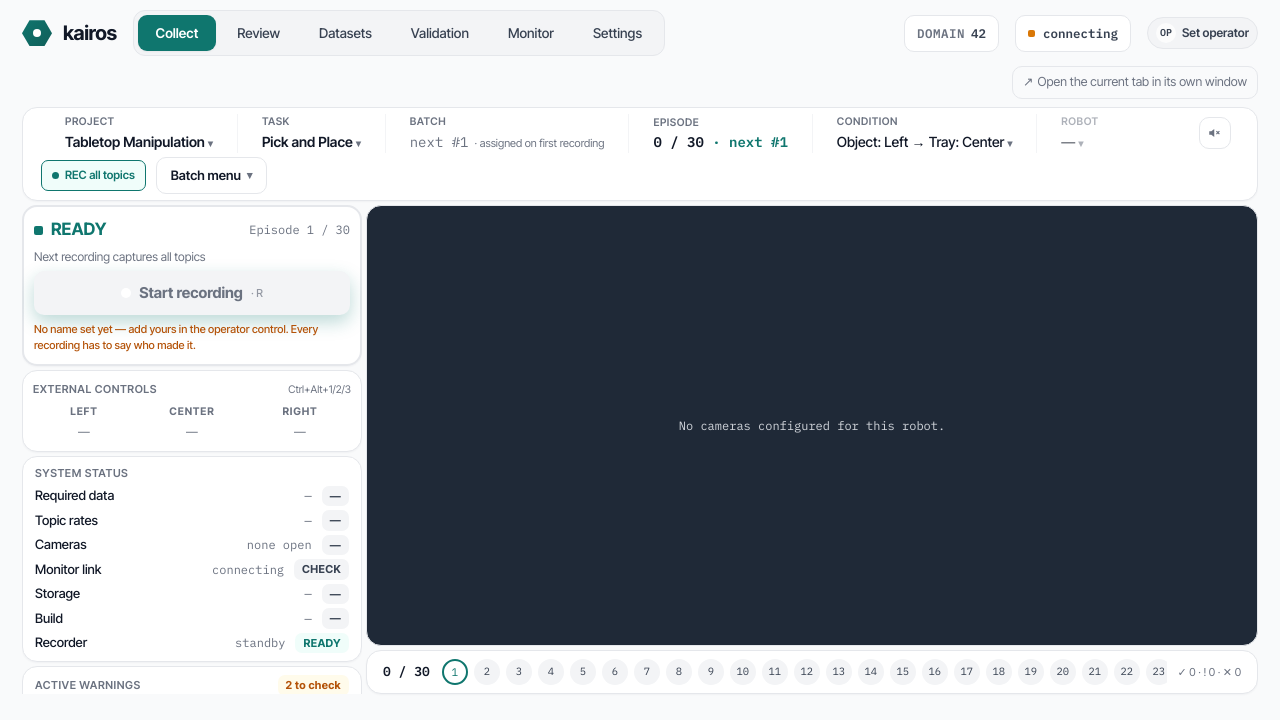
Test: the operator chip sets uiStore.recordOperator (sent with /record/start) and persists it
Click the button with test id "operator-chip" at [1202, 33], box [1147,17,1258,49]
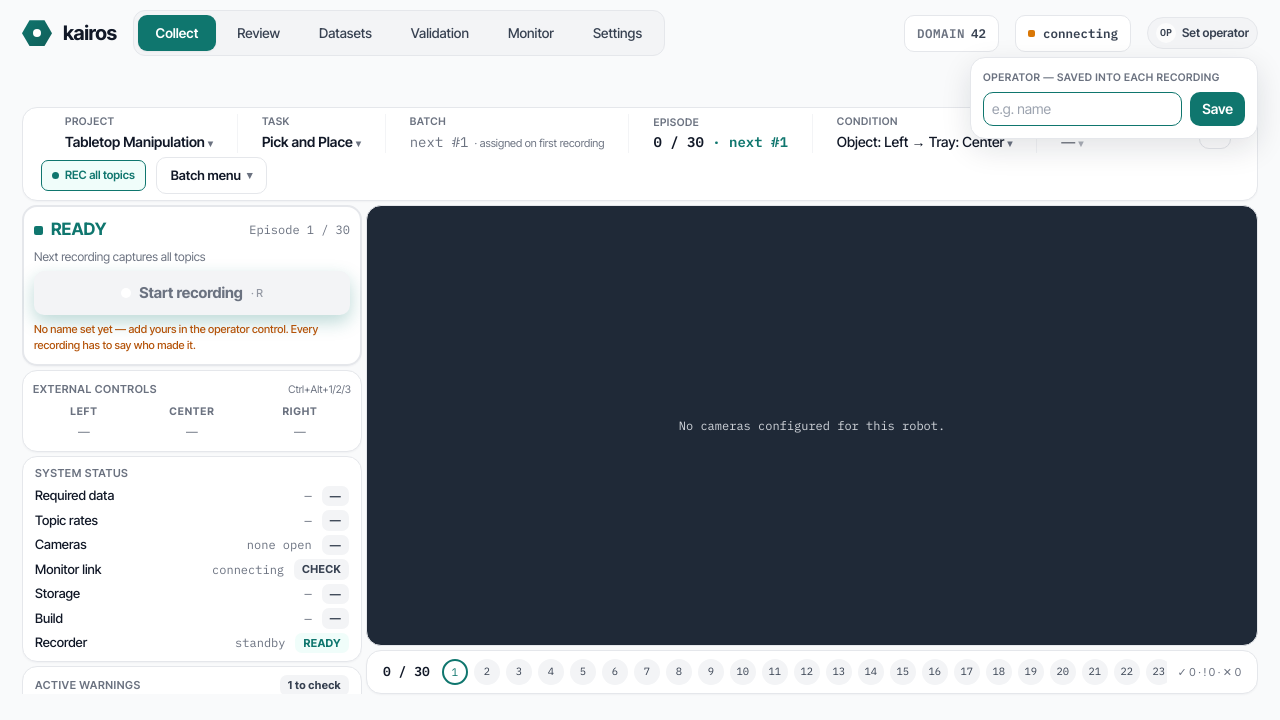
Type "Sadasue Yuki" into the field with test id "operator-input" at [1083, 109], box [983,92,1182,126]
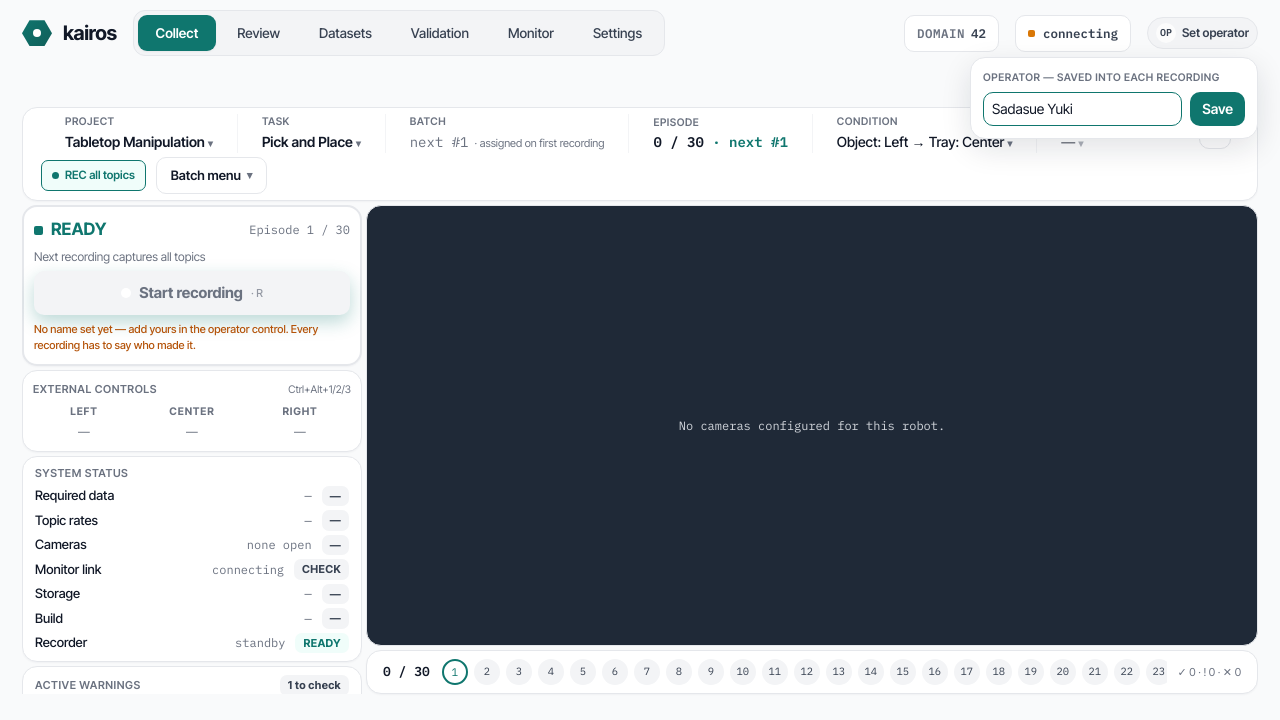
Click the button "Save" at [1218, 109], box [1190,92,1245,126]
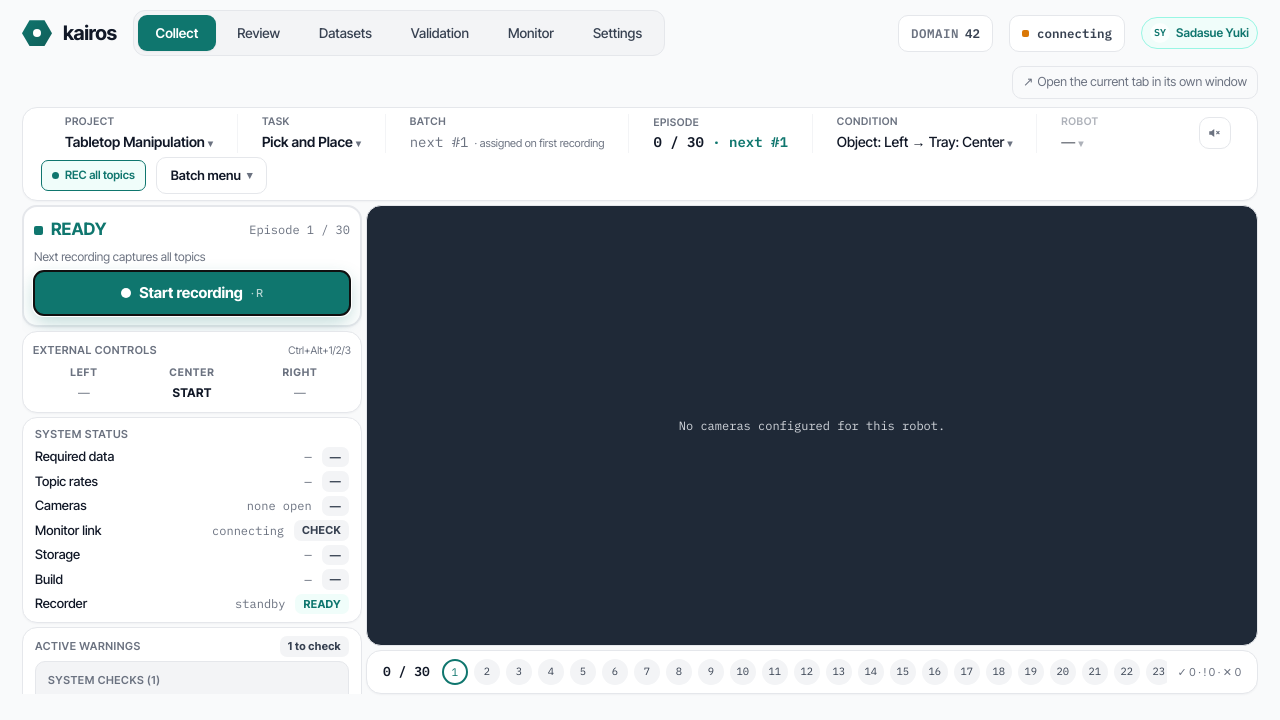
Expected: the text "Sadasue Yuki" is shown, [1176,25,1249,41]
Expected: the text with test id "operator-visible-name" reads "Sadasue Yuki", [1176,25,1249,40]
Expected: the button with test id "operator-chip" shows "SY", [1141,17,1258,49]
